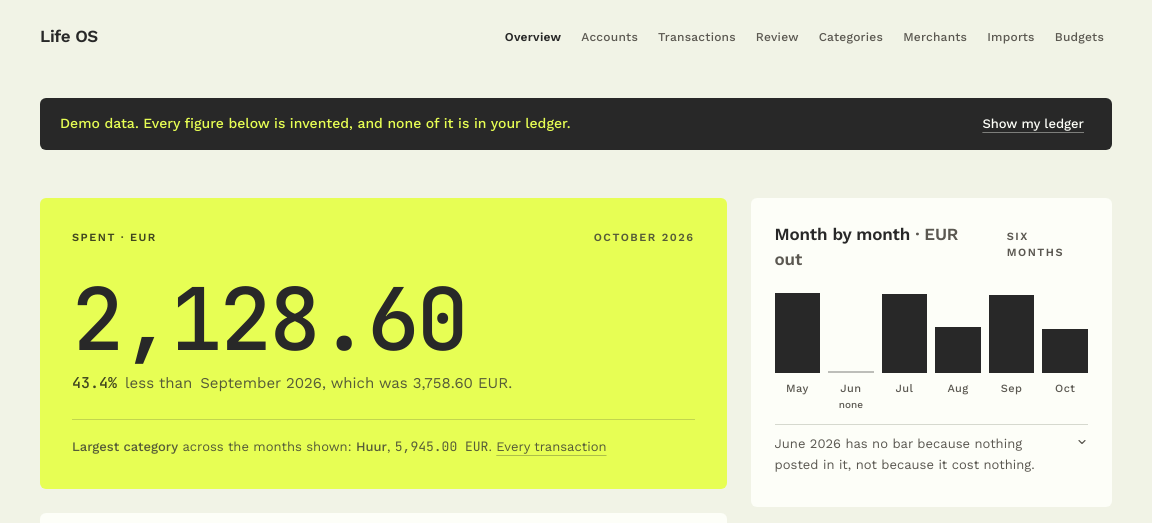
Test: overview — the demo is explicit or it does not happen › goes back to the real figures when the banner's action is used, and drops the parameter
Expected: the text "Every figure below is invented" is shown, x1=60 y1=115 x2=571 y2=131
Step 1. Click the button "Show my ledger" → (1033, 124), box x1=974 y1=110 x2=1092 y2=138
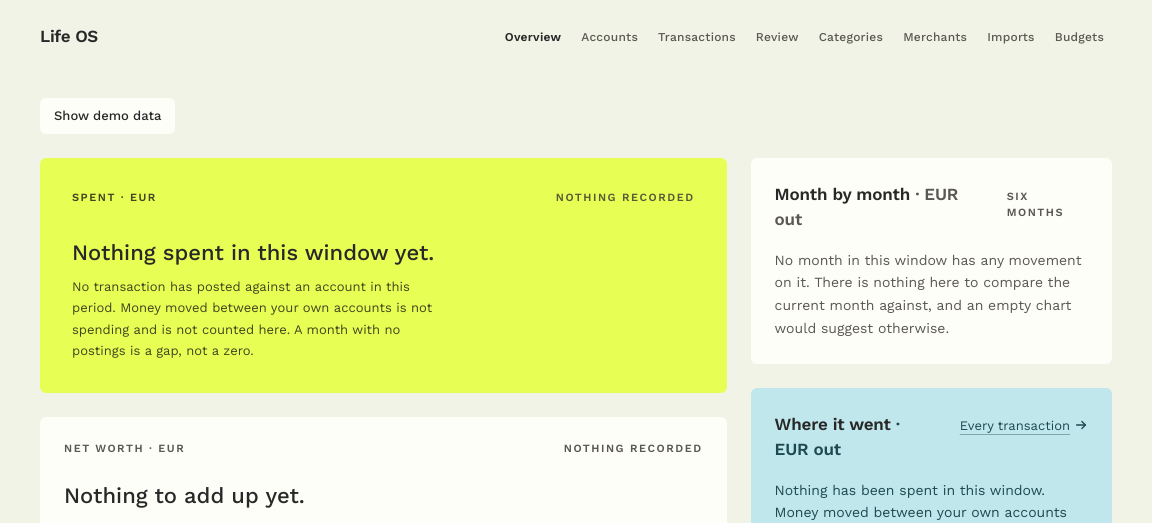
Now the text "Nothing to add up yet." is shown, box x1=64 y1=483 x2=305 y2=508
Now the text "Every figure below is invented" is gone
